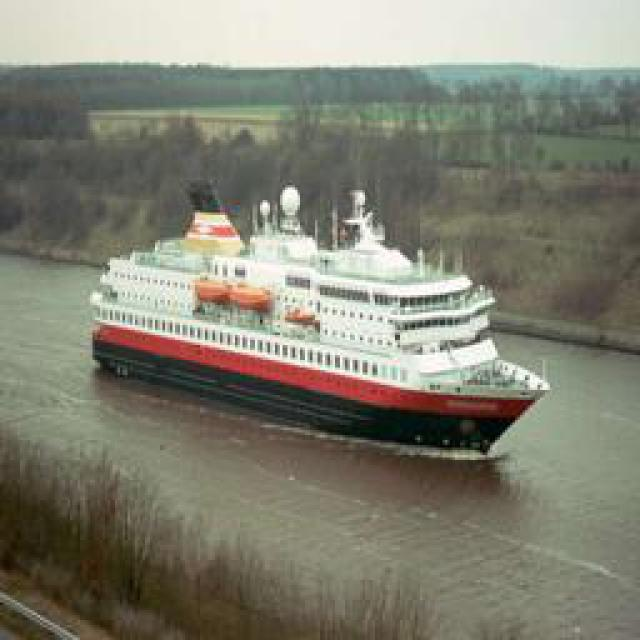Ship: (88, 199, 553, 454)
